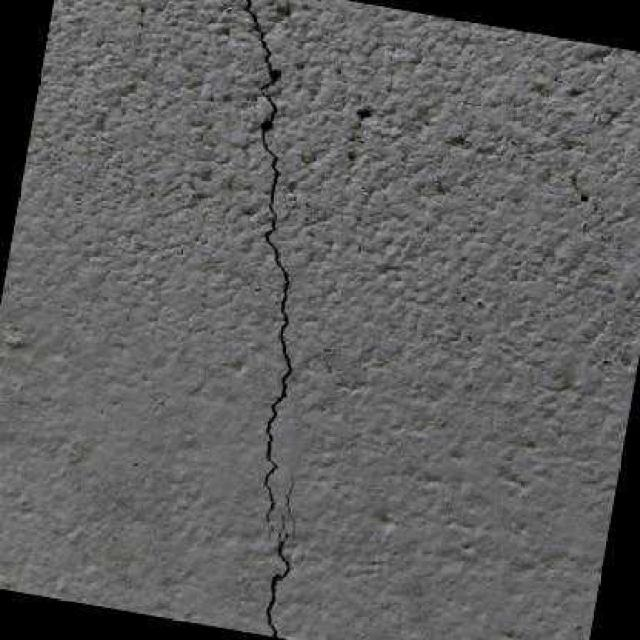D00: (241, 0, 293, 527), (262, 535, 291, 638)
